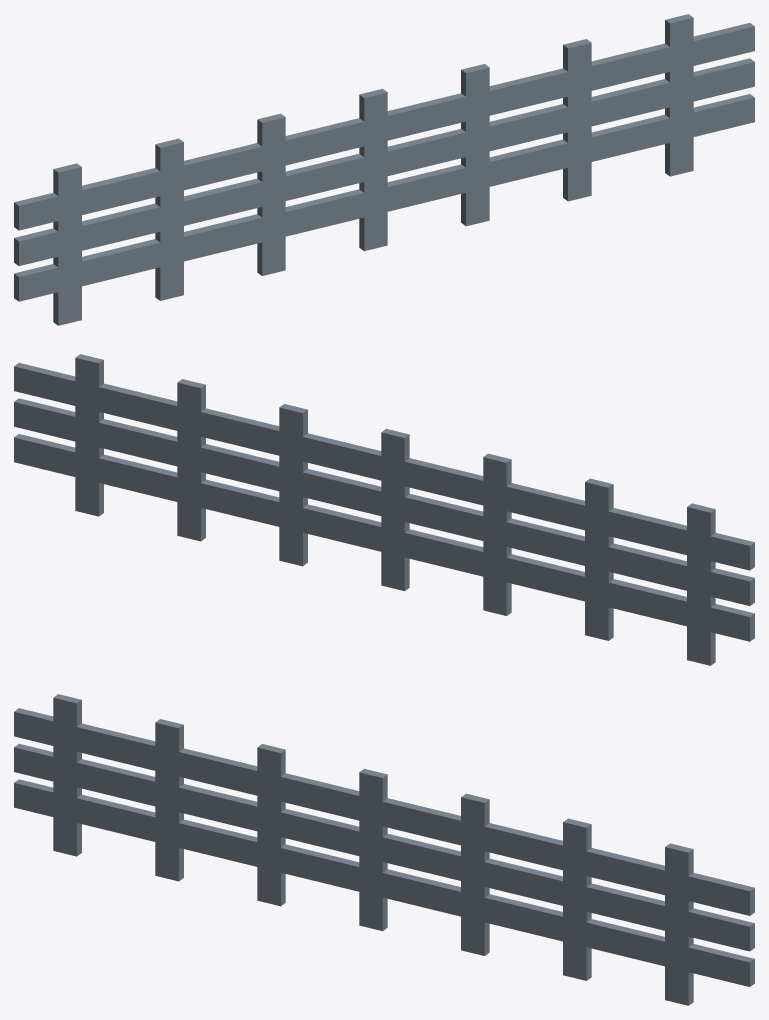
The model's file is stairs1.fbx.
3 views of the same model, one above another, from view 1: azimuth 30°, elevation 25°; view 2: azimuth 150°, elevation 25°; view 3: azimuth 330°, elevation 25° (orthographic).
Parts seen in each view (by area): view 1: Box027; view 2: Box027; view 3: Box027.
Boxes of the visible parts, x1,y1,x2,y2 form: Box027: (14, 14, 754, 325); Box027: (14, 354, 754, 665); Box027: (14, 694, 754, 1005).
Bounding box in the file's own units: 108 × 21.49 × 1.27.
